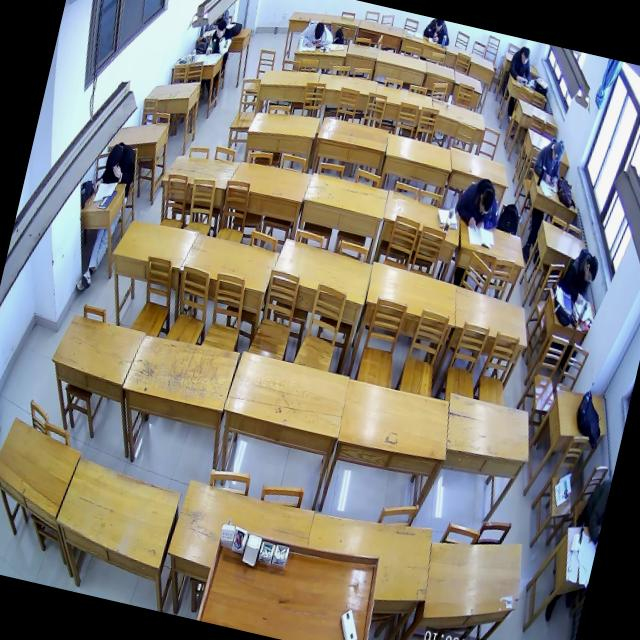bow: (451, 171, 506, 235), (295, 15, 337, 54), (419, 16, 454, 46)
down: (474, 186, 497, 220), (103, 140, 125, 173), (580, 253, 602, 286), (548, 136, 568, 166), (311, 19, 327, 44), (213, 16, 228, 40), (518, 46, 532, 67), (432, 18, 444, 32)
sit: (91, 136, 141, 200), (556, 241, 602, 307), (528, 132, 570, 189), (504, 42, 538, 88), (204, 15, 236, 61)
